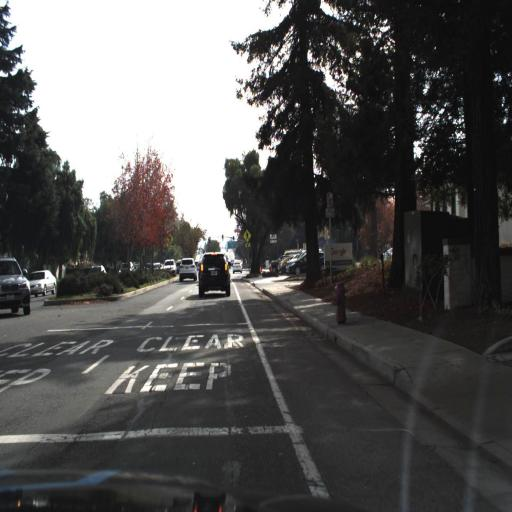car: (195, 248, 235, 300), (0, 256, 30, 318), (284, 242, 330, 276), (28, 268, 59, 297), (176, 254, 198, 284), (67, 262, 92, 286), (177, 256, 198, 282), (88, 262, 106, 277)
